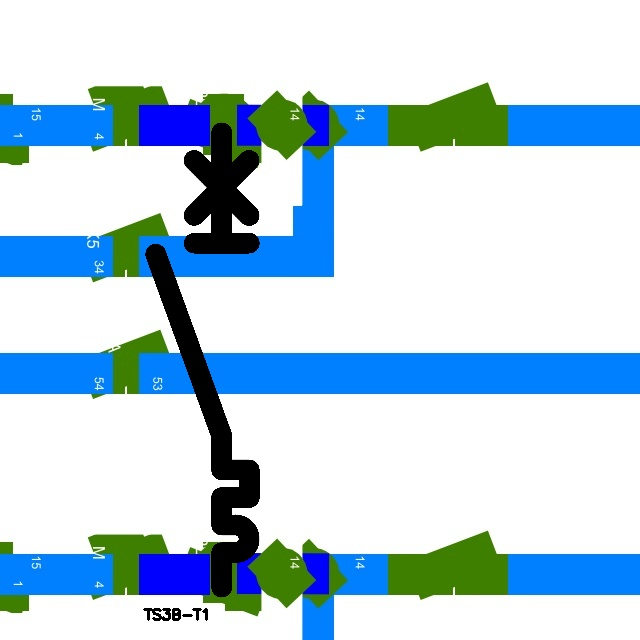interruptor_termomagnetico: (144, 121, 261, 599)
